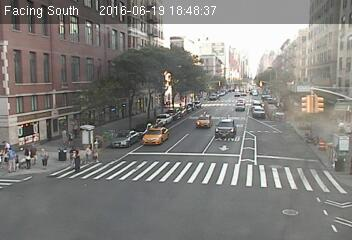neg: (127, 76, 151, 107), (174, 81, 190, 103), (106, 83, 122, 104), (243, 75, 258, 95), (157, 81, 171, 99), (226, 76, 239, 93), (81, 90, 92, 105), (198, 85, 209, 100)
pos: (68, 149, 88, 176), (2, 149, 22, 175), (18, 144, 38, 170), (34, 147, 51, 170), (82, 144, 94, 160), (63, 132, 75, 146), (71, 120, 82, 135)
